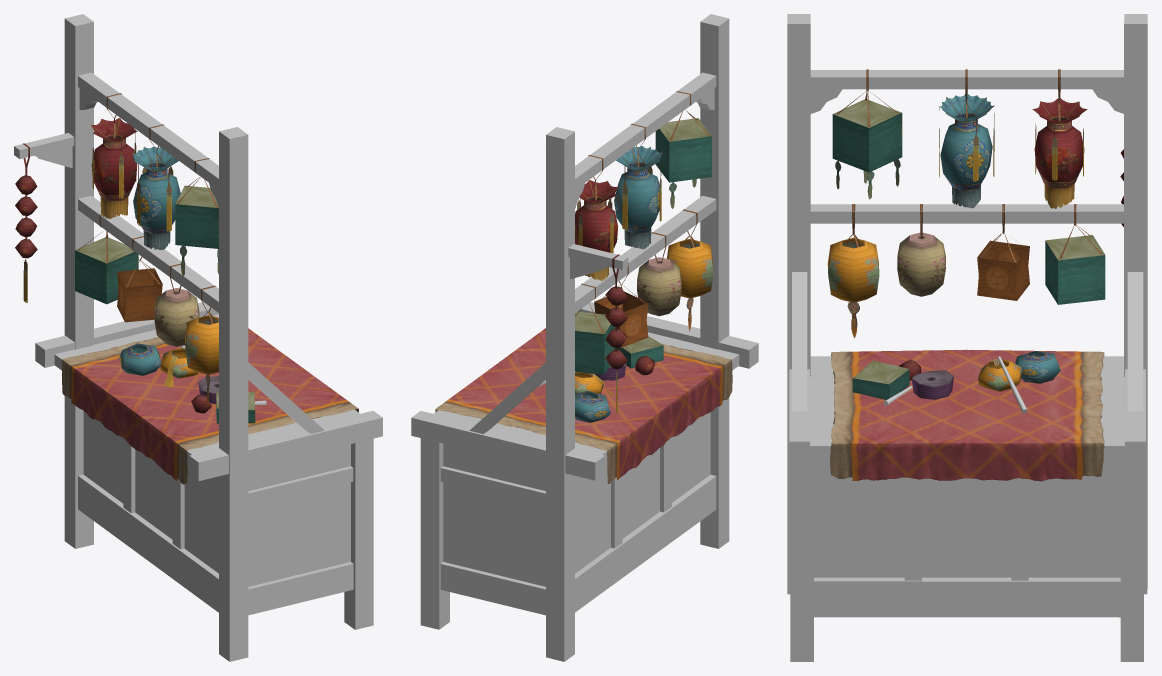
3 views of the same model, side by side, from view 1: azimuth 30°, elevation 25°; view 2: azimuth 150°, elevation 25°; view 3: azimuth 270°, elevation 25° (orthographic). The views are drawn at different scales.
Visible parts, largest first — view 1: element3ds.com-ca_thing_misc207; view 2: element3ds.com-ca_thing_misc207; view 3: element3ds.com-ca_thing_misc207.
Part boxes in pixels (box(x1,y1,x2,y2)): element3ds.com-ca_thing_misc207: box(14, 14, 382, 661); element3ds.com-ca_thing_misc207: box(411, 14, 758, 661); element3ds.com-ca_thing_misc207: box(787, 14, 1147, 661).
Bounding box in the file's own units: 88.33 × 211 × 121.
